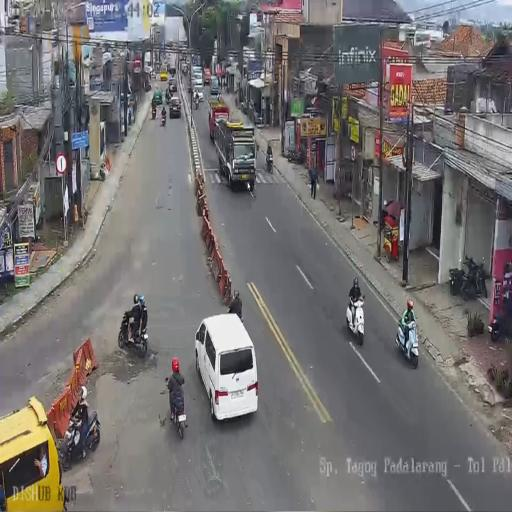3: (207, 96, 230, 145), (192, 66, 202, 86)
car: (194, 315, 258, 422), (120, 87, 133, 125), (169, 96, 181, 118), (152, 89, 163, 105), (210, 86, 220, 101), (168, 80, 177, 96), (145, 60, 152, 77), (204, 68, 211, 84), (168, 65, 176, 77), (160, 68, 167, 80), (182, 62, 188, 75)
truck: (59, 404, 101, 470), (117, 309, 148, 356), (396, 313, 420, 368), (459, 254, 488, 299), (164, 381, 186, 439), (490, 293, 512, 342), (346, 294, 365, 346), (285, 144, 304, 164), (266, 152, 274, 174), (241, 99, 248, 115), (160, 109, 166, 126), (194, 93, 198, 110), (165, 87, 169, 104)
